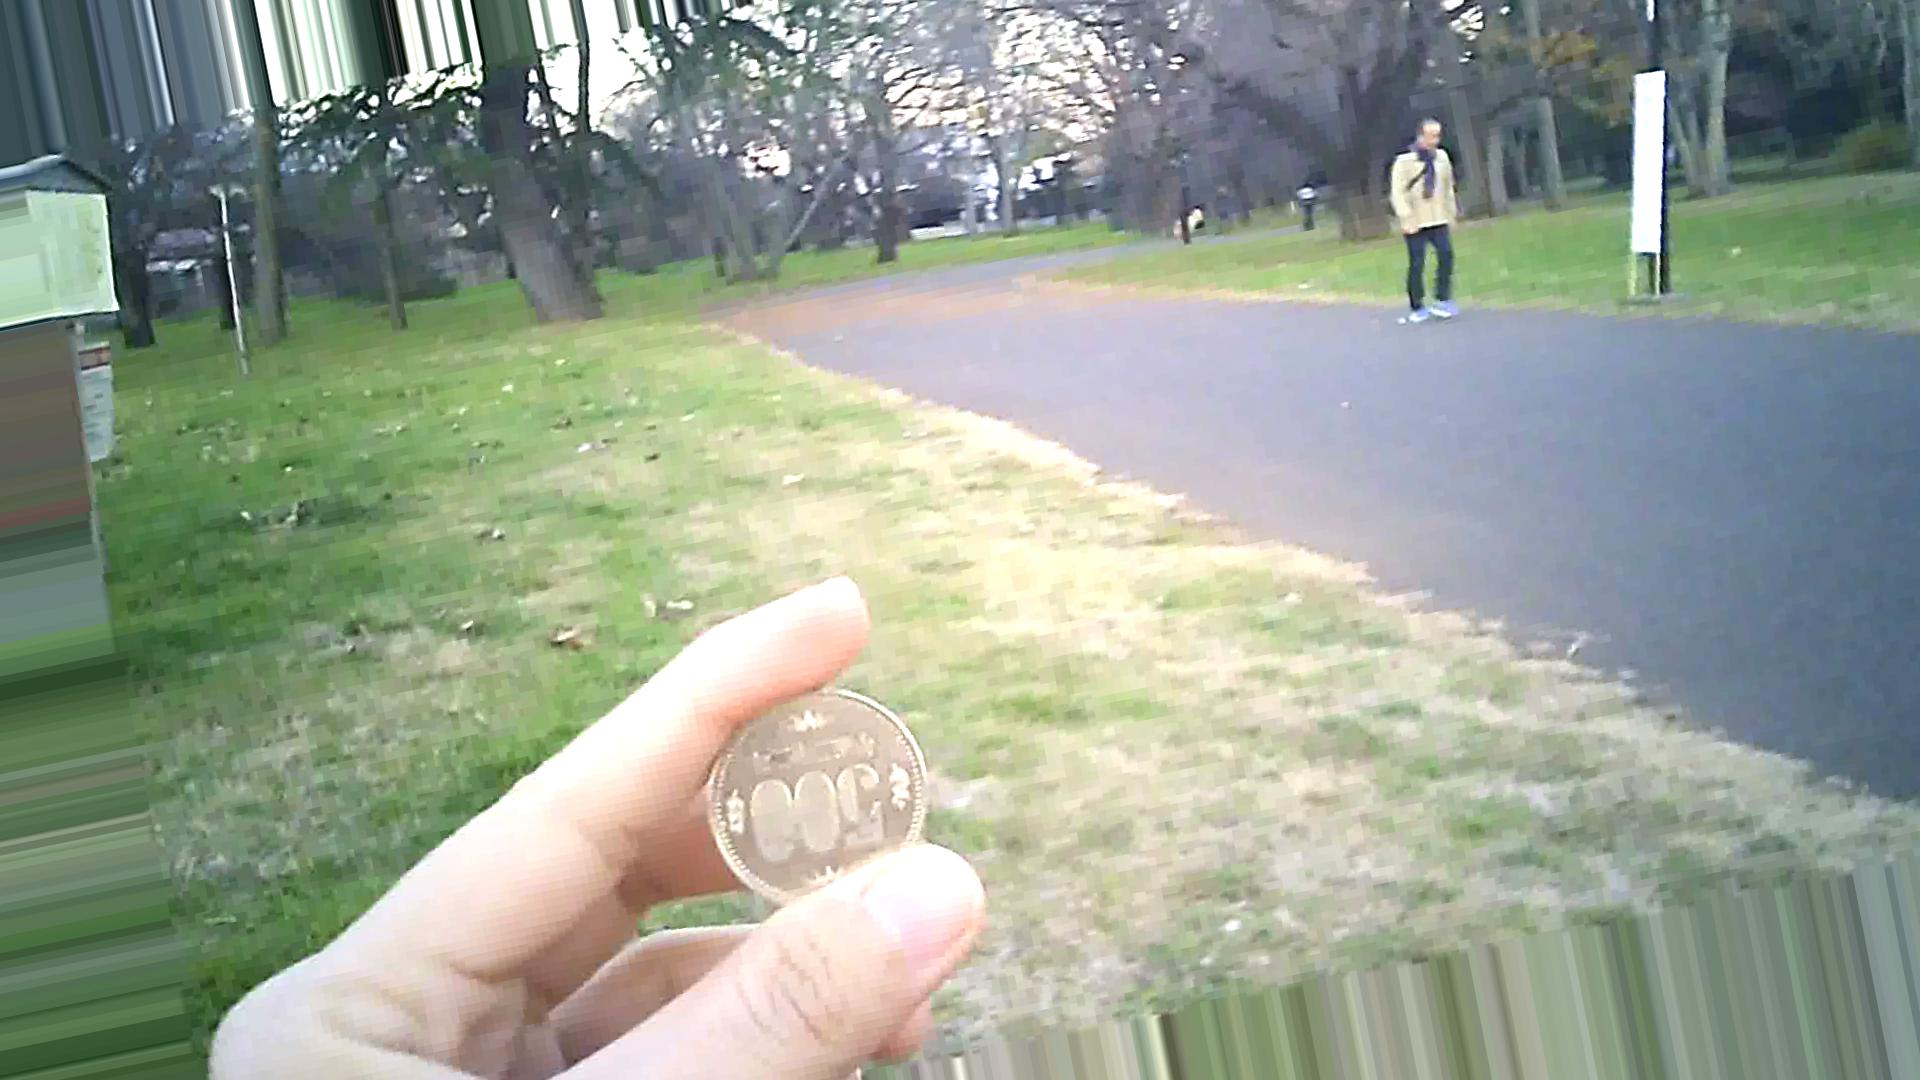500 Yen: (700, 680, 926, 889)
